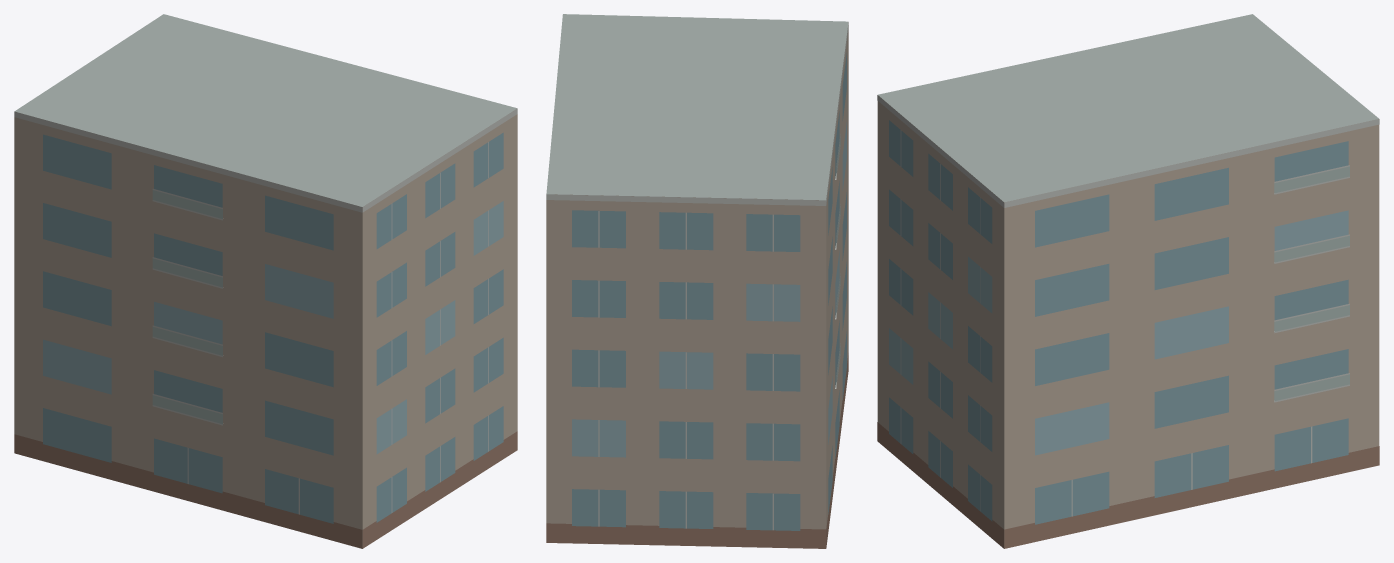
File: survey-upis-32736232.glb
3 views of the same model, side by side, from view 1: azimuth 30°, elevation 25°; view 2: azimuth 150°, elevation 25°; view 3: azimuth 270°, elevation 25° (orthographic).
Parts seen in each view (by area): view 1: survey-upis-32736232.tmp; view 2: survey-upis-32736232.tmp; view 3: survey-upis-32736232.tmp.
Boxes of the visible parts, x1,y1,x2,y2 form: survey-upis-32736232.tmp: (14, 14, 517, 548); survey-upis-32736232.tmp: (546, 14, 848, 548); survey-upis-32736232.tmp: (877, 14, 1379, 548).
Size of the model in its own units: 17.2 by 14.75 by 19.37.
